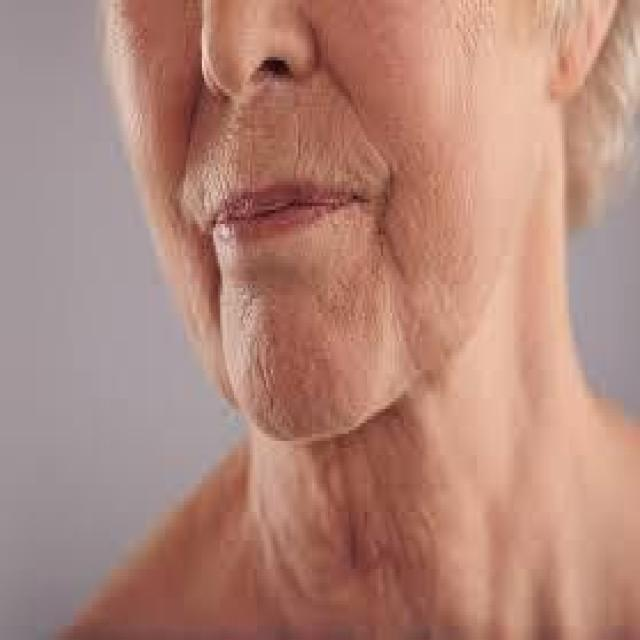Wrinkles: (168, 71, 236, 413), (329, 54, 406, 283)
